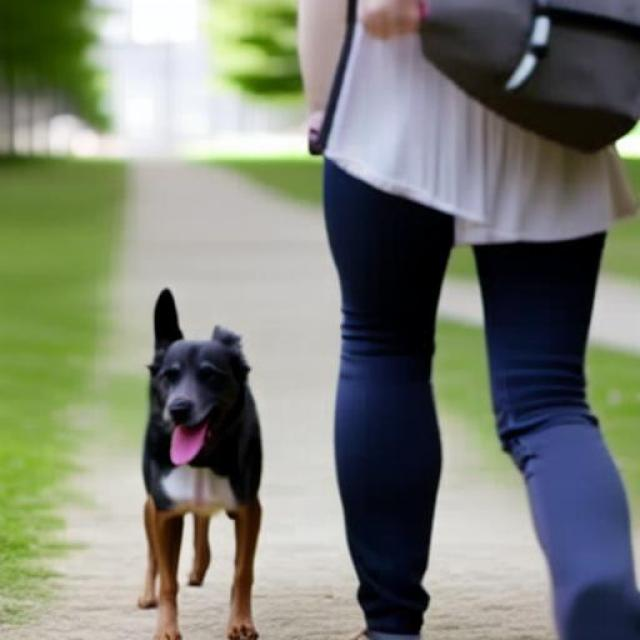Unleashed_Dog: (136, 144, 456, 640)
